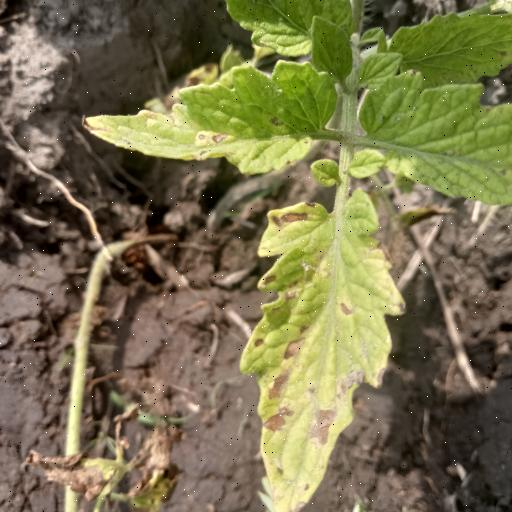Tomato_Brown_Spots: (238, 190, 411, 512), (83, 56, 345, 178), (352, 64, 512, 206)
